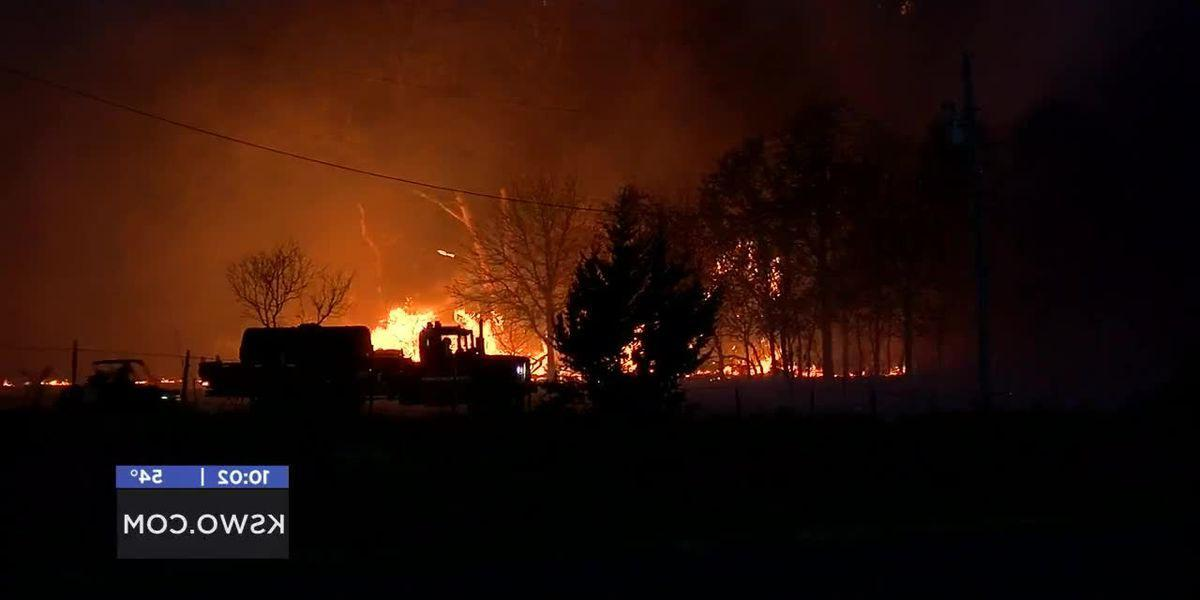Fire: (371, 302, 438, 363), (444, 306, 514, 358), (526, 340, 552, 382), (748, 349, 782, 376), (687, 362, 739, 379), (786, 360, 822, 379), (39, 375, 74, 389), (881, 366, 910, 378), (4, 377, 18, 390), (161, 377, 178, 387)
